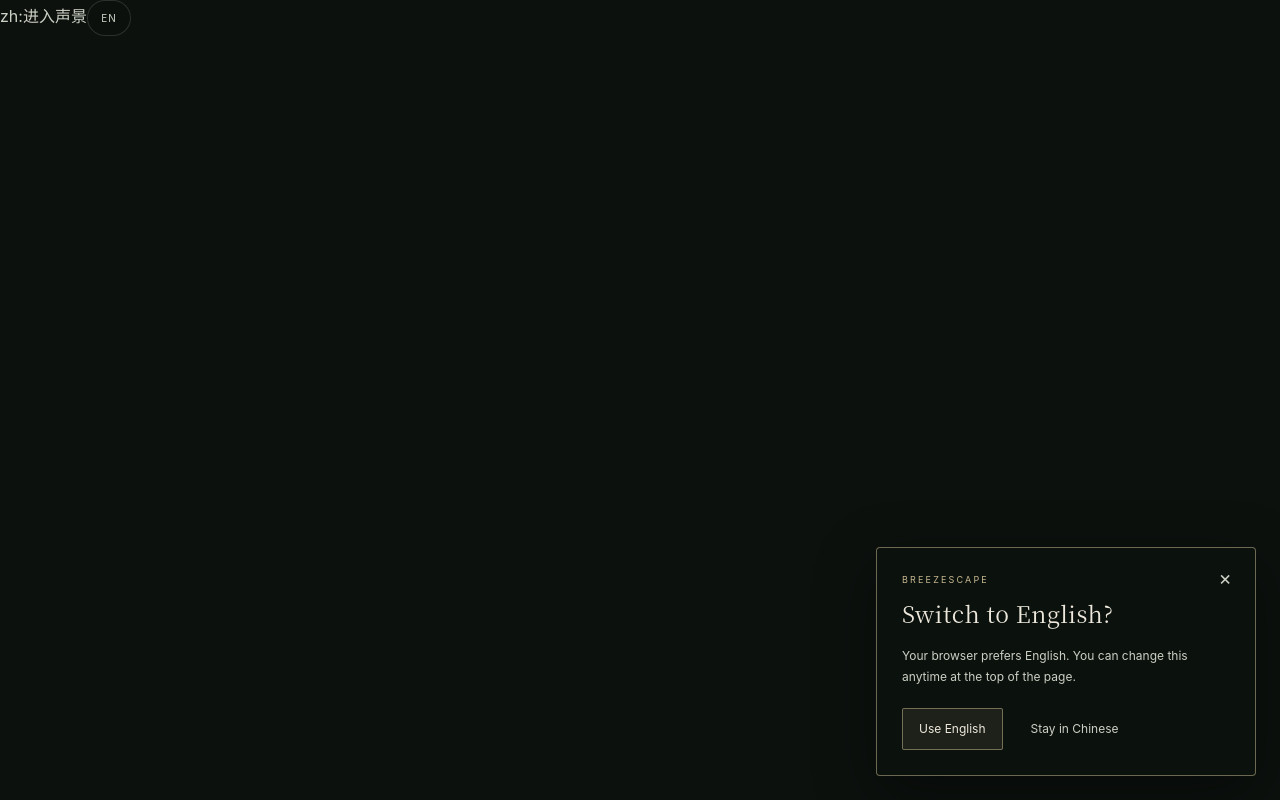
browser language suggestion › remembers Stay in Chinese and does not prompt again
Click the button "Stay in Chinese" at (1074, 729), box [1014,708,1134,750]
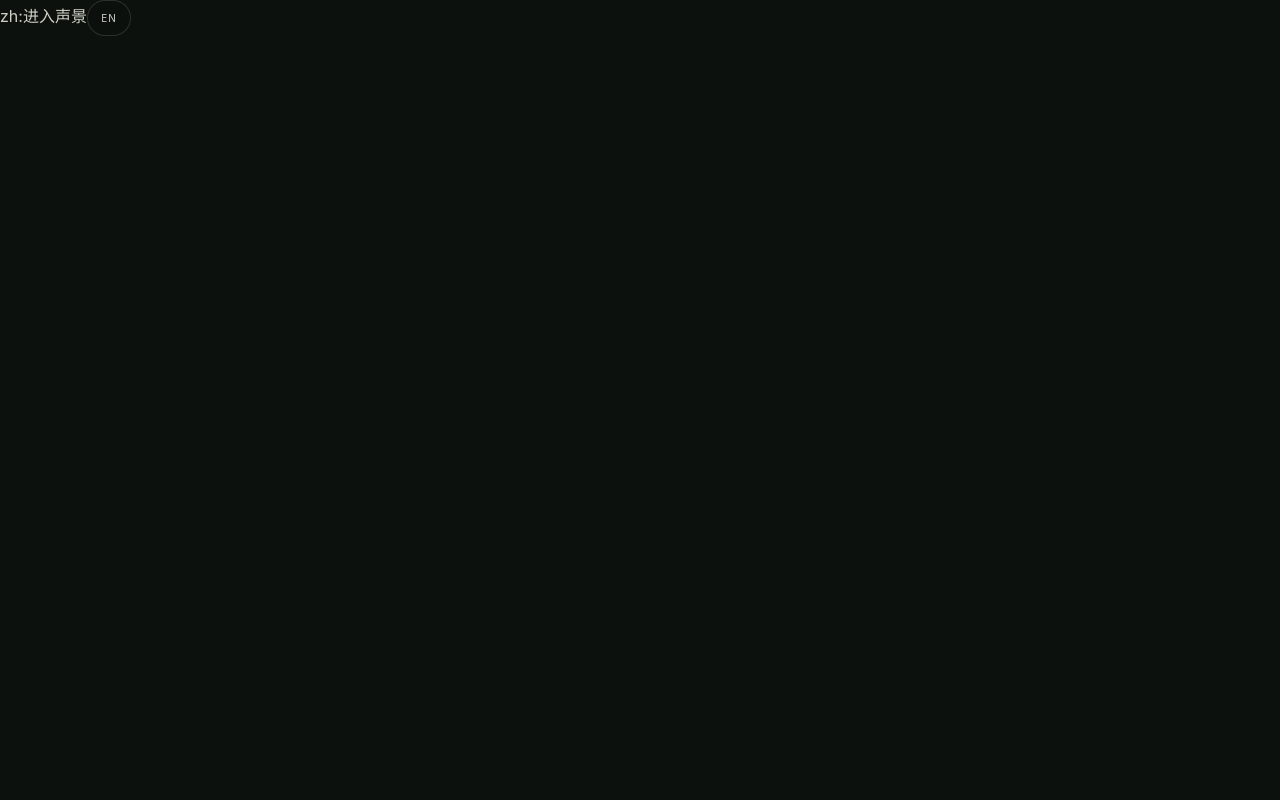
Expected: the text with test id "current" reads "zh:进入声景", [0,6,87,26]
Expected: the dialog is gone
